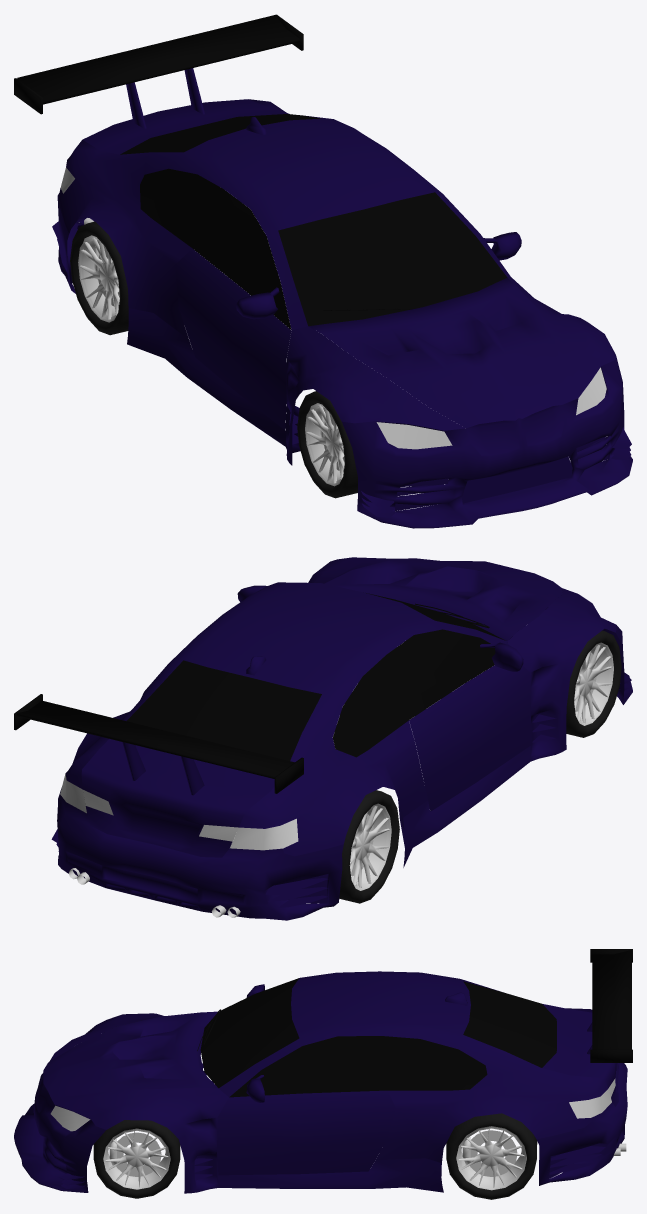
The model's file is free_car_1.dae.
The picture shows the model from 3 angles, top to bottom: view 1: azimuth 30°, elevation 25°; view 2: azimuth 150°, elevation 25°; view 3: azimuth 270°, elevation 25°; orthographic projection. The views are drawn at different scales.
Visible parts, largest first — view 1: car25, car13, car21, car22, car24, car32, car33, car52, car12, car51, car28, car4 (+10 smaller); view 2: car25, car26, car28, car27, car24, car21, car32, car52, car33, car12, car81, car4 (+10 smaller); view 3: car25, car23, car31, car21, car51, car22, car11, car13, car27, car26, car33, car28 (+13 smaller).
Boxes of the visible parts, <box> form: car25: <box>58,99,510,339</box>; car13: <box>342,356,632,528</box>; car21: <box>308,278,562,428</box>; car22: <box>278,192,507,326</box>; car24: <box>175,248,291,430</box>; car32: <box>140,168,291,329</box>; car33: <box>17,15,299,104</box>; car52: <box>286,326,465,430</box>; car12: <box>127,308,300,465</box>; car51: <box>508,277,616,404</box>; car28: <box>82,99,286,154</box>; car4: <box>70,221,128,335</box>; car25: <box>58,582,508,856</box>; car26: <box>57,794,343,920</box>; car28: <box>81,739,274,857</box>; car27: <box>126,660,321,760</box>; car24: <box>409,665,530,811</box>; car21: <box>324,560,562,641</box>; car32: <box>333,629,495,757</box>; car52: <box>507,588,616,707</box>; car33: <box>16,700,294,778</box>; car12: <box>400,699,567,867</box>; car81: <box>60,773,298,850</box>; car4: <box>339,790,399,903</box>; car25: <box>219,971,608,1162</box>; car23: <box>217,1090,395,1175</box>; car31: <box>229,1036,487,1097</box>; car21: <box>43,1011,217,1097</box>; car51: <box>51,1087,228,1154</box>; car22: <box>200,978,299,1088</box>; car11: <box>183,1146,443,1193</box>; car13: <box>14,1026,105,1192</box>; car27: <box>463,981,556,1067</box>; car26: <box>536,1063,627,1185</box>; car33: <box>592,950,631,1049</box>; car28: <box>542,1004,618,1106</box>.
Size of the model in its own units: 1.91 by 4.58 by 1.26.
